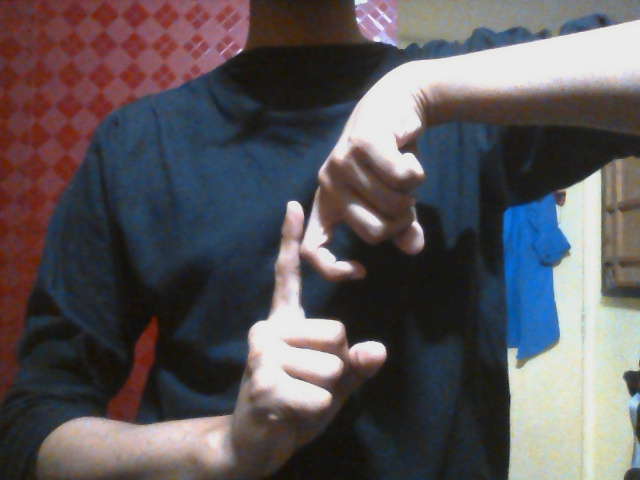K: (238, 143, 425, 463)
